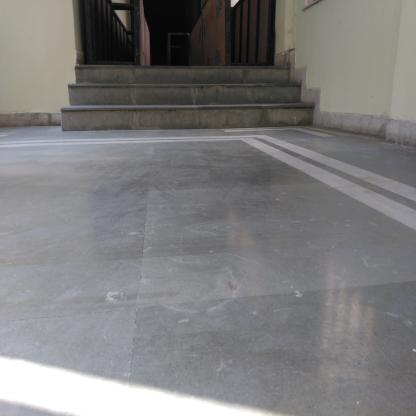stairs: (80, 64, 287, 134)
